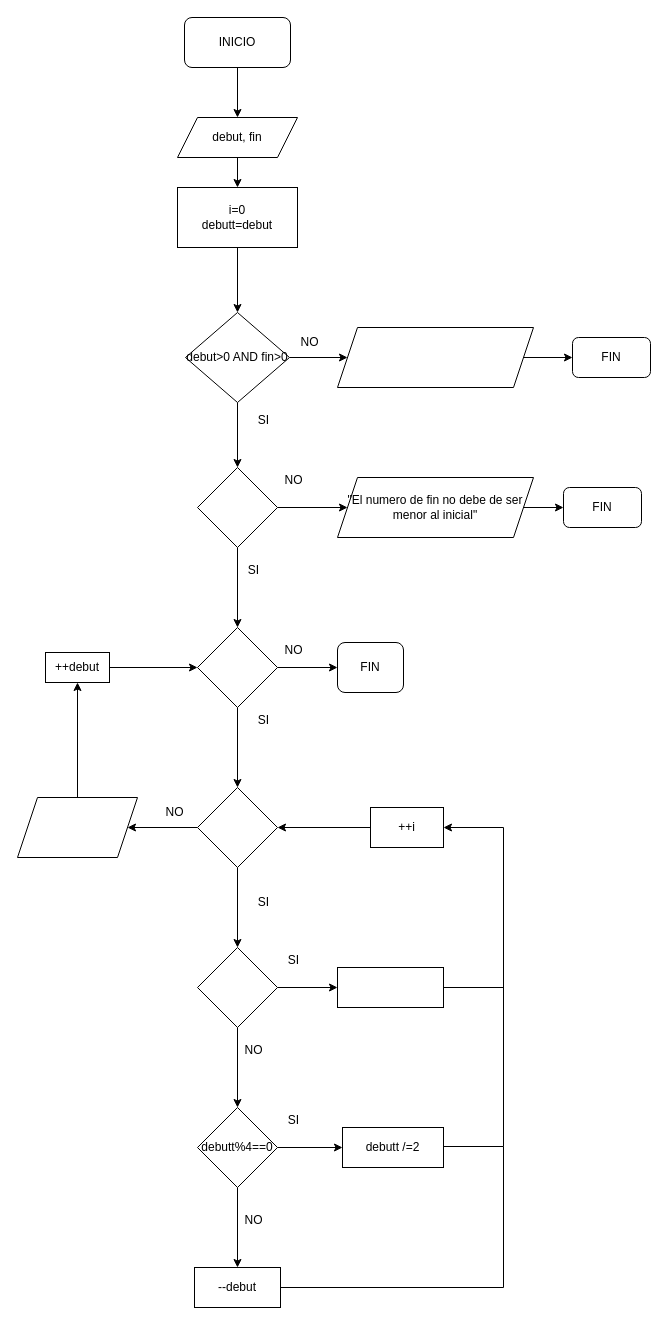
Some shapes in this 668 by 1325 pixel diagram are drawn without their labels. Here are the shapes that lost their labels. From the top down, the box of each, then its label:
(336, 326, 534, 388): "El numero debe ser positivo y mayor a zero"
(196, 466, 278, 548): fin>=debut
(196, 626, 278, 708): debut<=fin
(16, 796, 138, 858): debut, ->, i
(196, 786, 278, 868): debutt !=0
(196, 946, 278, 1028): debutt%3==0
(336, 966, 444, 1008): debutt += 4
